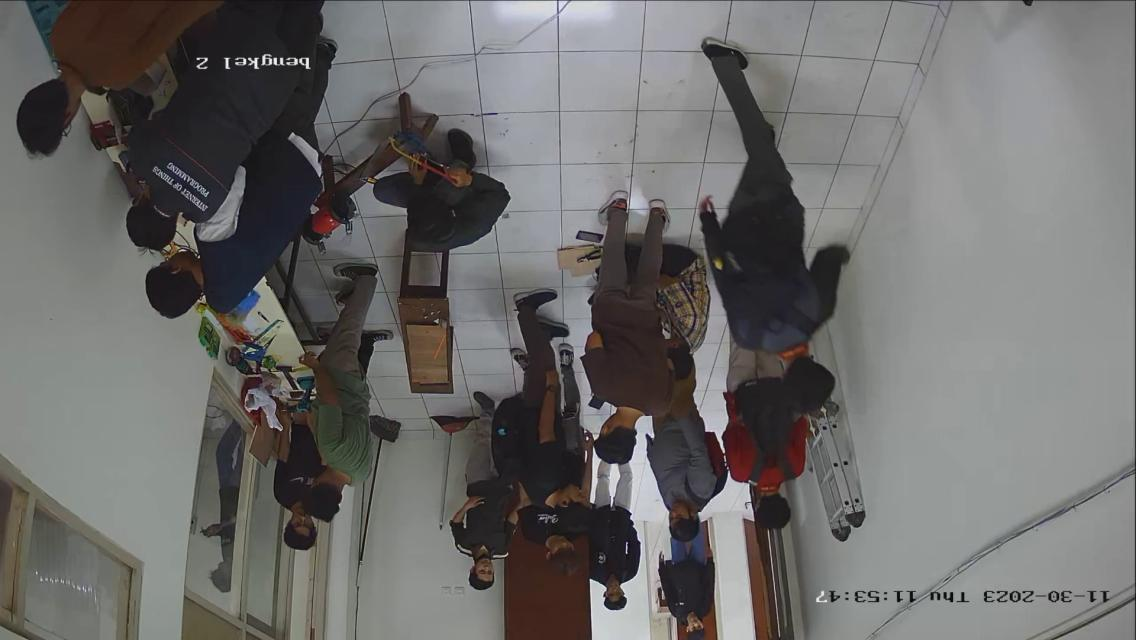Crowd: (559, 38, 832, 551)
